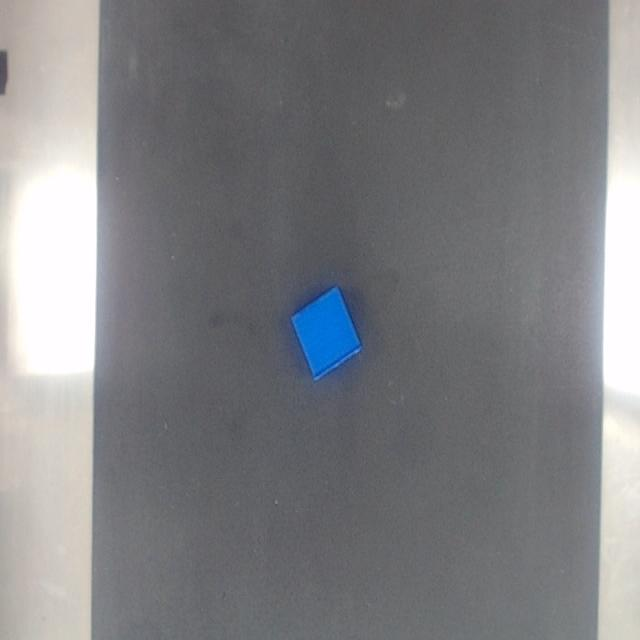Azul: (291, 287, 361, 380)
